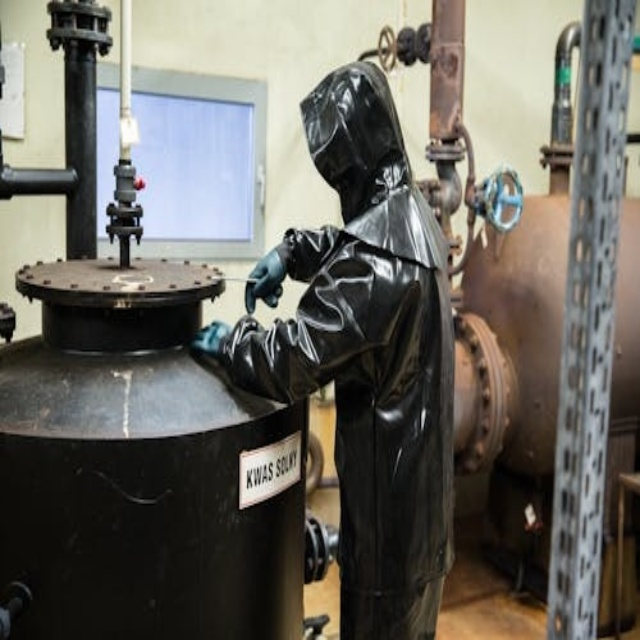Guantes: (245, 246, 288, 315), (190, 320, 231, 355)
